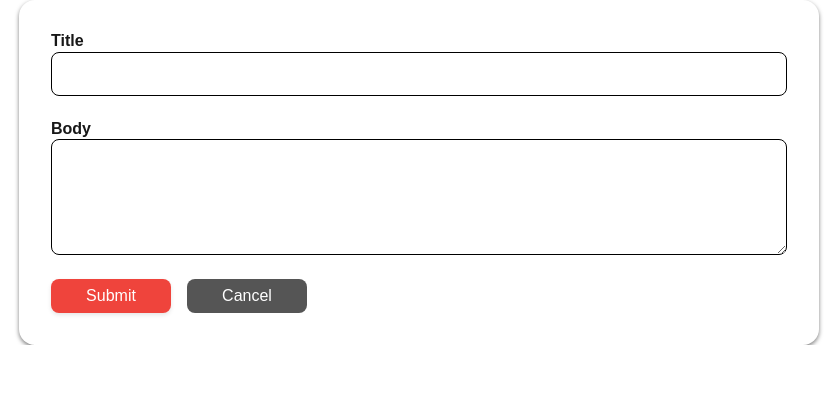
it: PostForm › show validation error
This screenshot has width=839, height=409.
Click the button "Submit" at (111,296), box [51, 279, 171, 313]
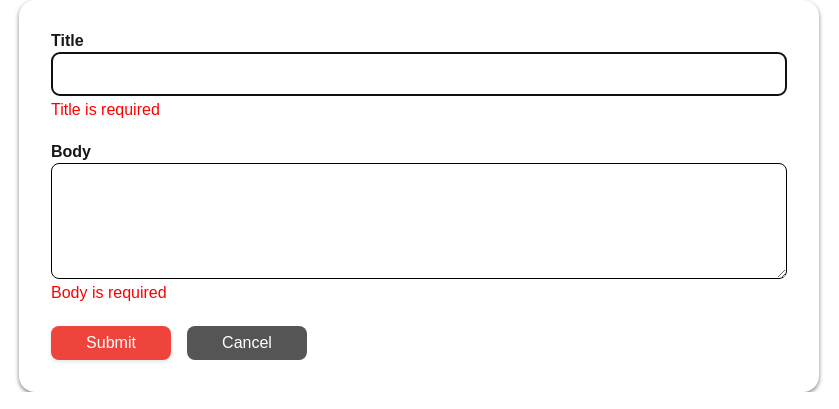
Check: the text "Title is required" is shown, box [51, 101, 160, 118]
Check: the text "Body is required" is shown, box [51, 284, 167, 301]
